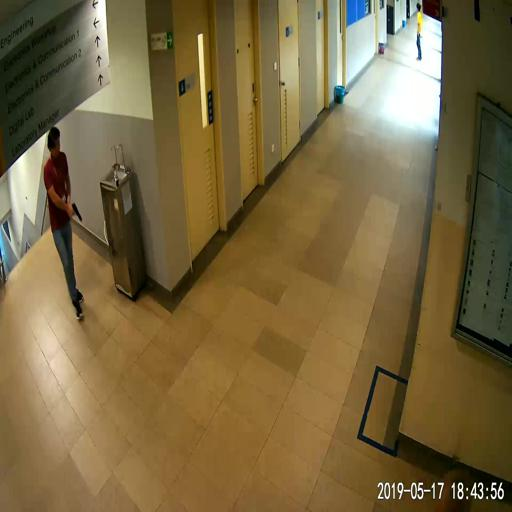pistol: (69, 201, 82, 221)
